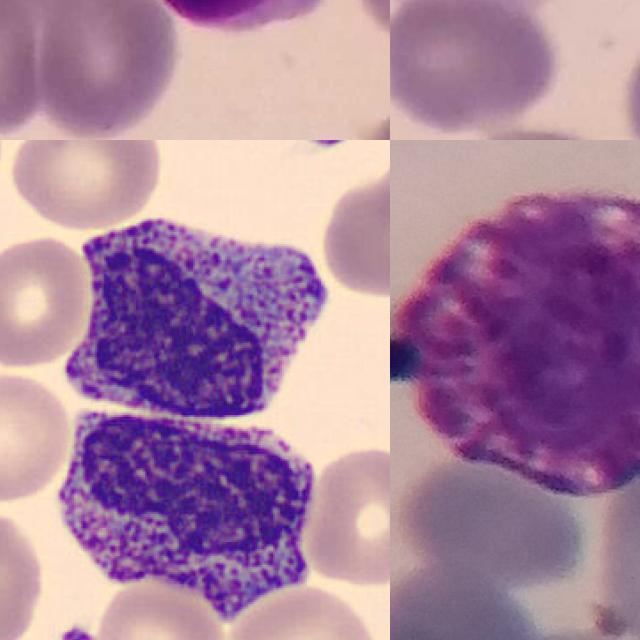Basophil: (395, 192, 640, 498), (53, 209, 343, 429), (49, 401, 327, 627)
Lymphocyte: (140, 0, 334, 34)
Platelets: (289, 140, 358, 152), (56, 621, 98, 640)
RBC: (4, 140, 164, 231), (0, 230, 95, 371), (299, 441, 390, 587), (0, 369, 74, 506), (223, 582, 383, 640), (90, 577, 227, 640), (321, 173, 390, 298), (0, 510, 45, 640)
